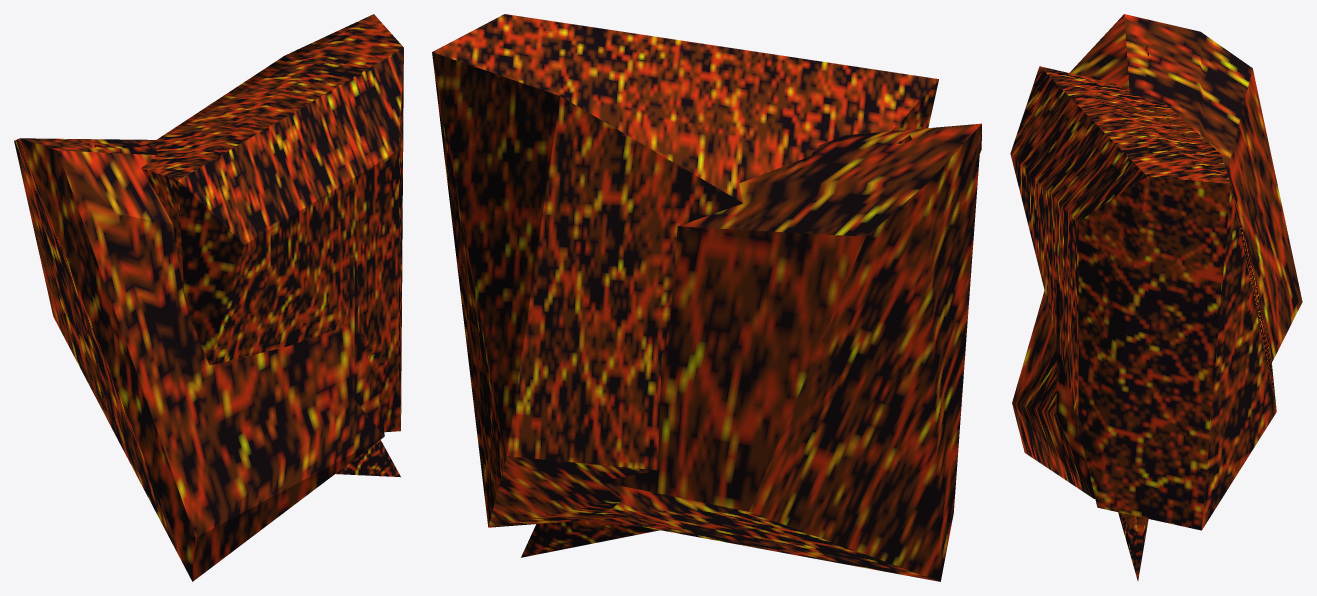
File: fragments.fbx
3 views of the same model, side by side, from view 1: azimuth 30°, elevation 25°; view 2: azimuth 150°, elevation 25°; view 3: azimuth 270°, elevation 25° (orthographic). The views are drawn at different scales.
Parts seen in each view (by area): view 1: Cube.001, Cube.002, Cube; view 2: Cube.002, Cube.001, Cube; view 3: Cube.002, Cube.001, Cube.
Part boxes in pixels (x1=…): Cube.001: x1=14, y1=138, x2=384, y2=581; Cube.002: x1=141, y1=14, x2=403, y2=432; Cube: x1=88, y1=141, x2=400, y2=477; Cube.002: x1=432, y1=14, x2=938, y2=527; Cube.001: x1=600, y1=123, x2=981, y2=581; Cube: x1=521, y1=135, x2=912, y2=557; Cube.002: x1=1010, y1=66, x2=1276, y2=530; Cube.001: x1=1012, y1=14, x2=1302, y2=498; Cube: x1=1118, y1=44, x2=1148, y2=580.
Bounding box in the file's own units: 296 × 323 × 209.
